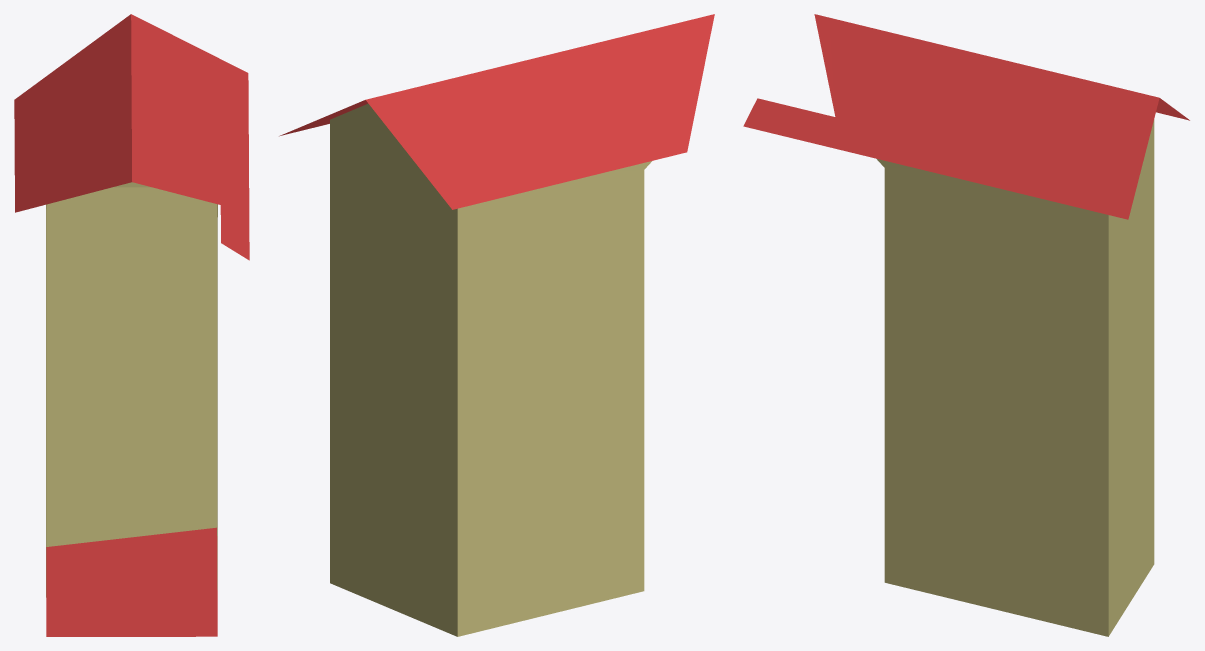
3 renders of one model, left to right at view 1: azimuth 30°, elevation 25°; view 2: azimuth 150°, elevation 25°; view 3: azimuth 270°, elevation 25°, orthographic.
Bounding box in the file's own units: 11.69 × 14.23 × 17.89.
